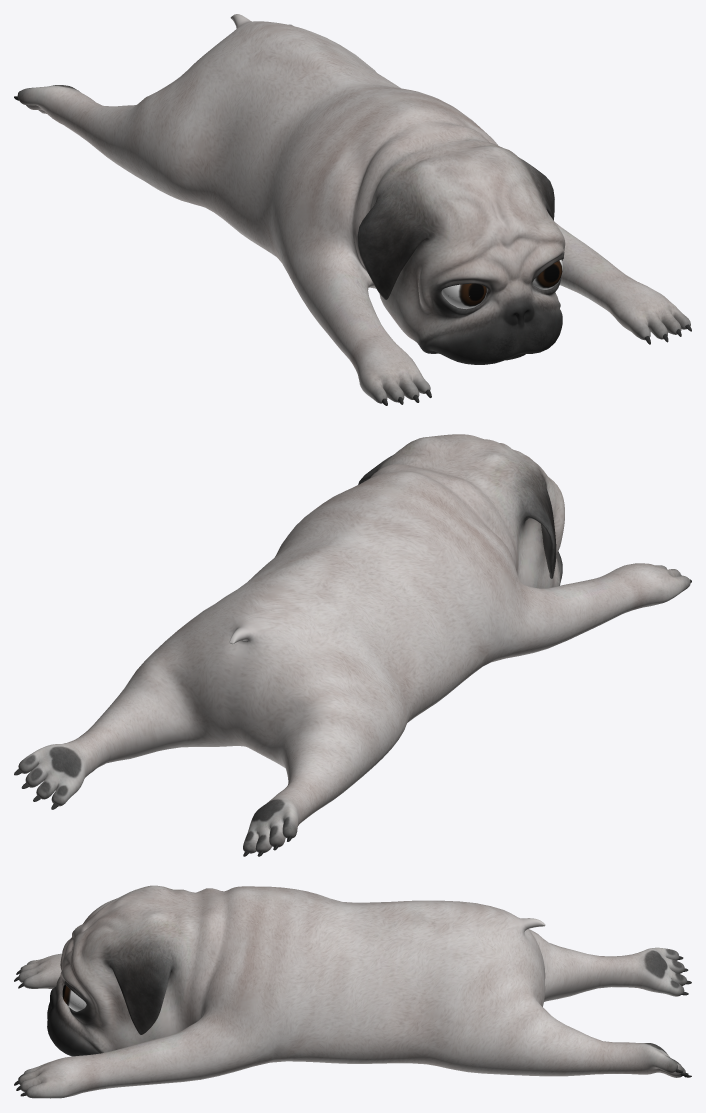
3 views of the same model, one above another, from view 1: azimuth 30°, elevation 25°; view 2: azimuth 150°, elevation 25°; view 3: azimuth 270°, elevation 25° (orthographic). The views are drawn at different scales.
Visible parts, largest first — view 1: ZBrush_defualt_group, Group10041; view 2: ZBrush_defualt_group; view 3: ZBrush_defualt_group, Group10041.
Boxes of the visible parts, x1=… form: ZBrush_defualt_group: x1=17, y1=14, x2=690, y2=403; Group10041: x1=441, y1=259, x2=562, y2=309; ZBrush_defualt_group: x1=18, y1=434, x2=690, y2=853; ZBrush_defualt_group: x1=18, y1=885, x2=686, y2=1098; Group10041: x1=62, y1=984, x2=86, y2=1011.
Bounding box in the file's own units: 2.68 × 1.45 × 5.88.
3 materials, 2 textured.
